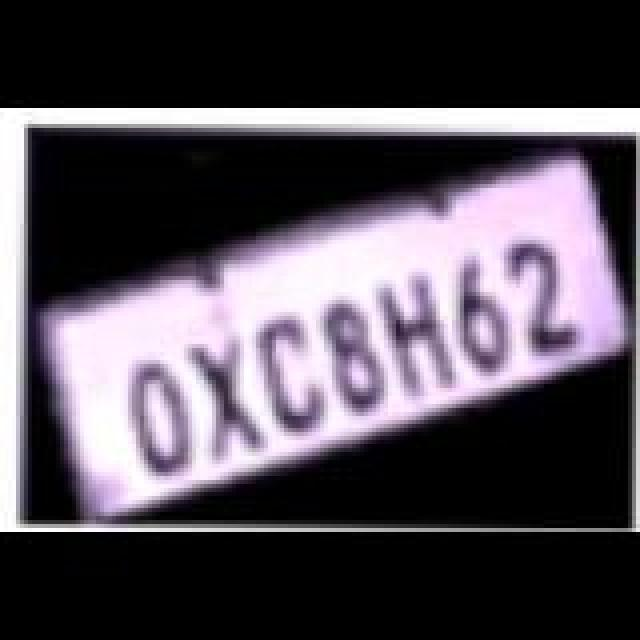2: (484, 232, 596, 360)
6: (432, 252, 528, 380)
8: (306, 294, 406, 418)
C: (238, 318, 346, 442)
H: (362, 270, 470, 402)
O: (110, 356, 210, 484)
X: (172, 340, 284, 468)
